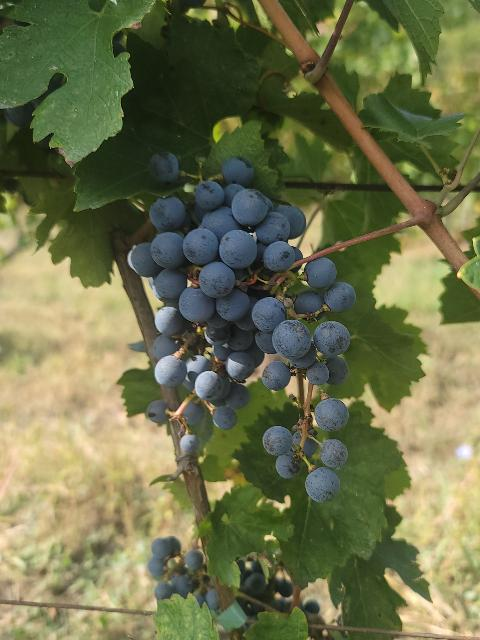grapes: (135, 158, 306, 429), (260, 258, 356, 502)
